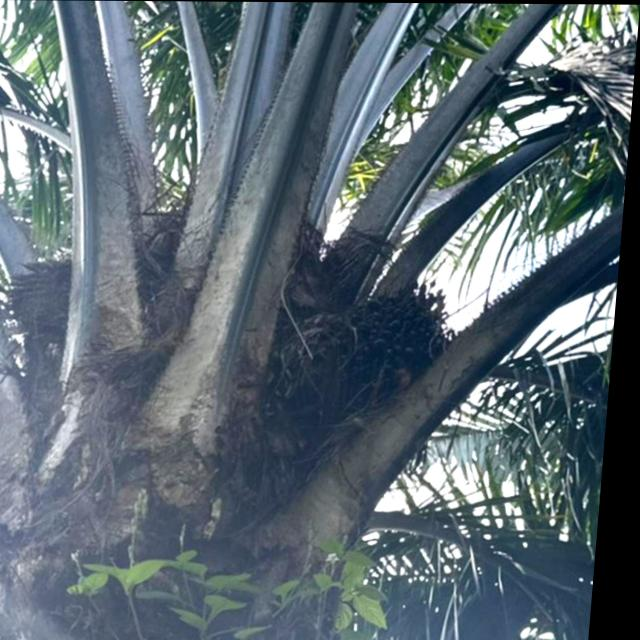unripe: (303, 283, 461, 418)
